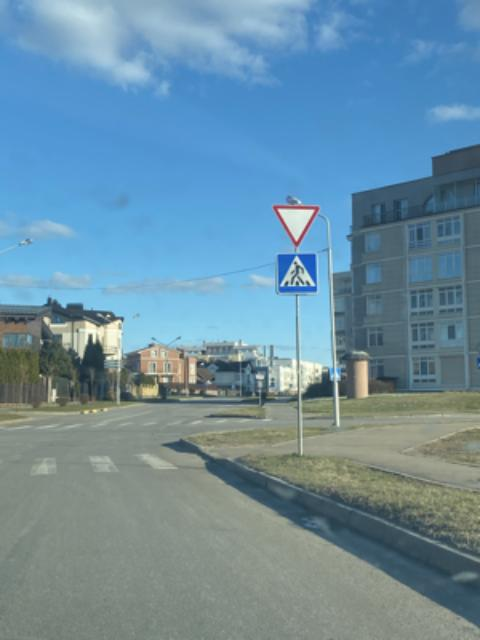crosswalk-sign: (275, 253, 318, 296)
